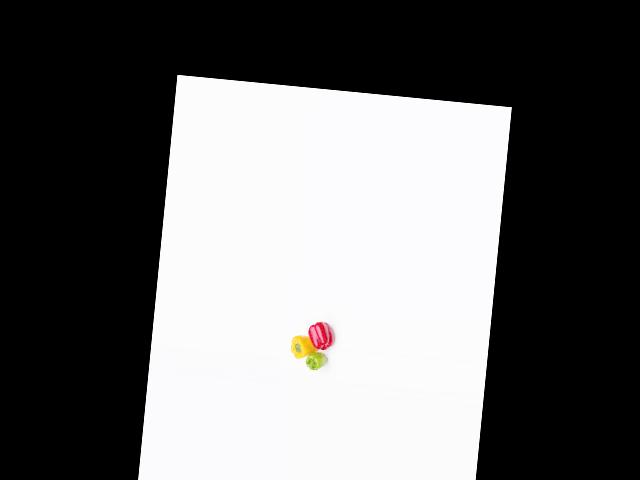bell_pepper: (302, 350, 328, 376)
